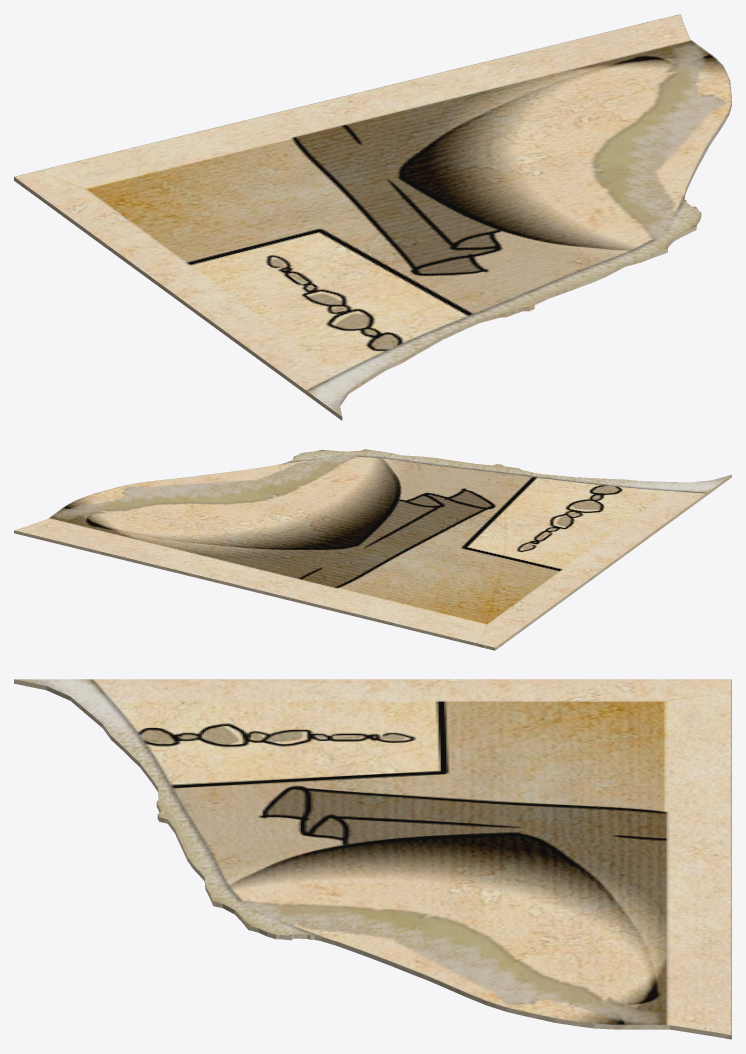
The model's file is Photo 2.fbx.
3 renders of one model, top to bottom at view 1: azimuth 30°, elevation 25°; view 2: azimuth 150°, elevation 25°; view 3: azimuth 270°, elevation 25°, orthographic. The views are drawn at different scales.
Visible parts, largest first — view 1: Plane.002; view 2: Plane.002; view 3: Plane.002.
Part boxes in pixels (x1=…): Plane.002: x1=14, y1=14, x2=731, y2=420; Plane.002: x1=14, y1=449, x2=731, y2=650; Plane.002: x1=14, y1=679, x2=731, y2=1039.
Bounding box in the file's own units: 8.79 × 0.05 × 7.5.
